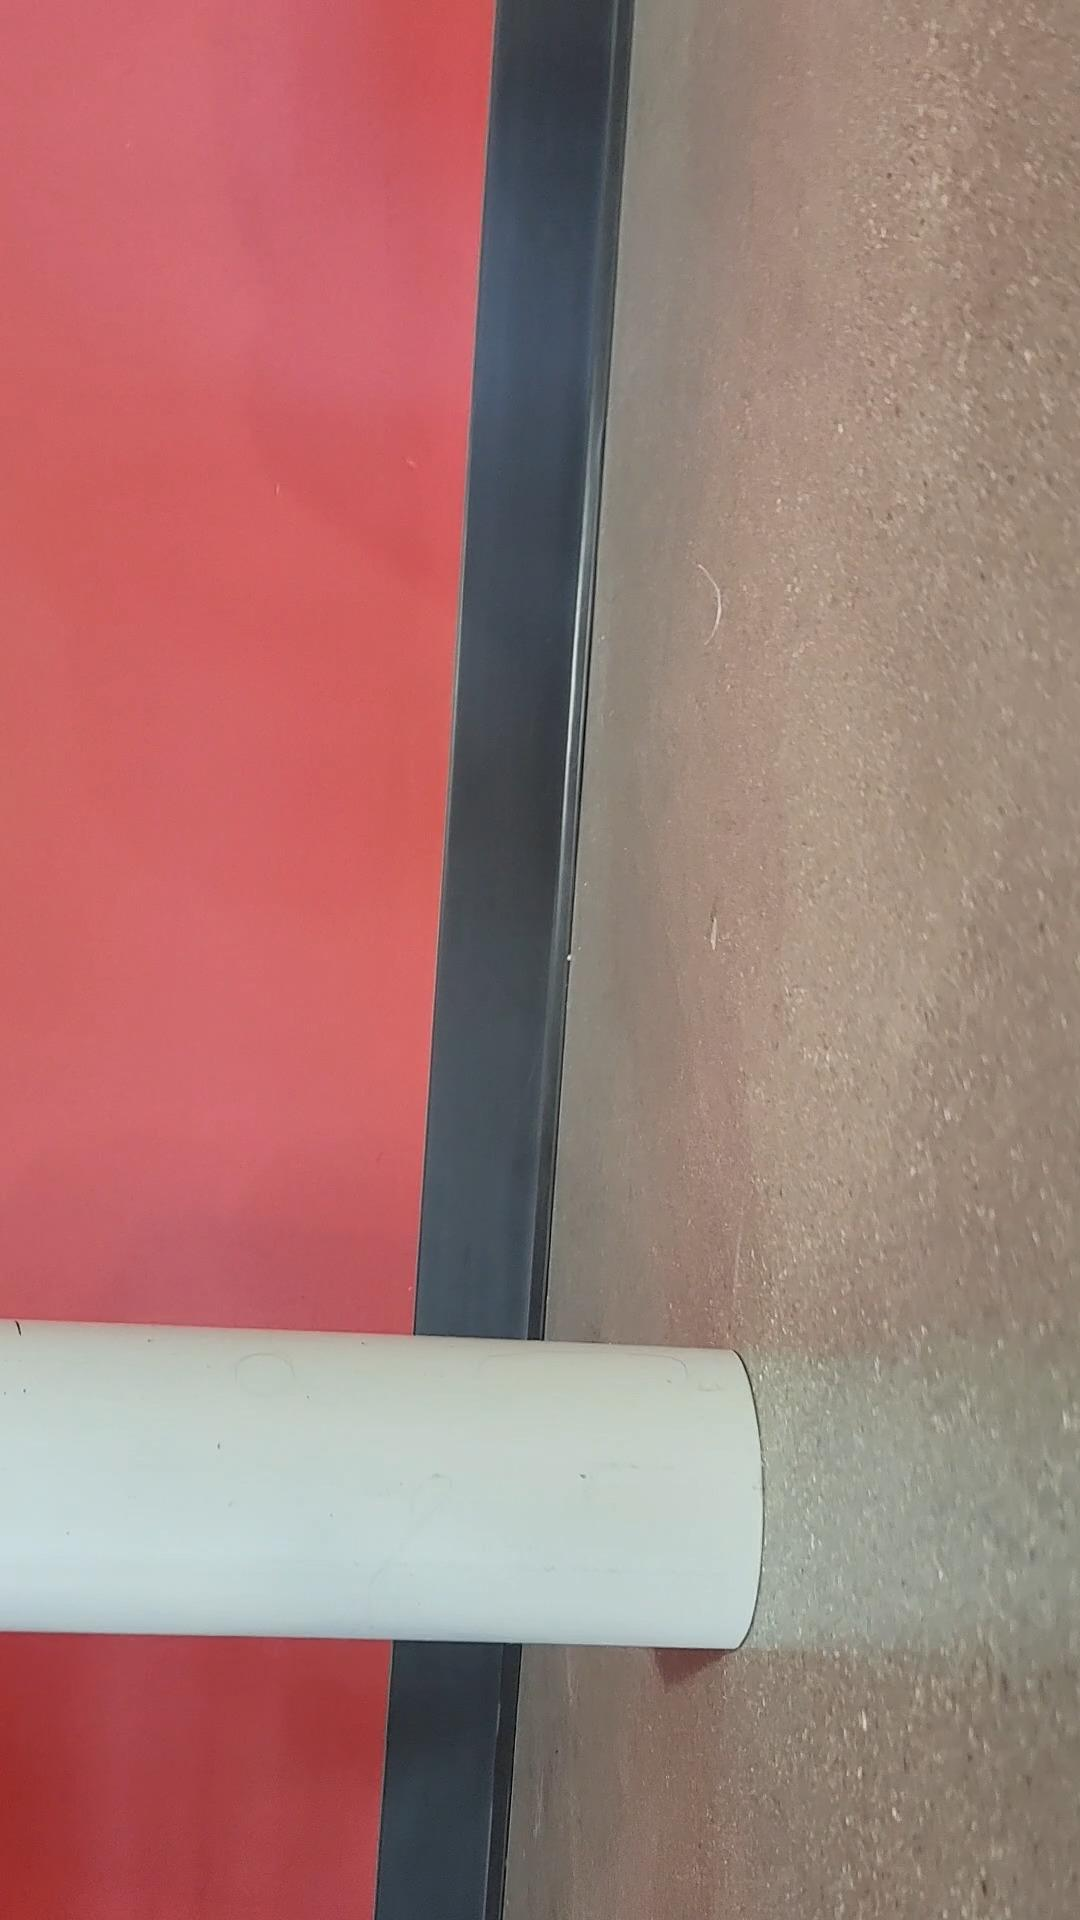coral: (0, 1317, 773, 1654)
